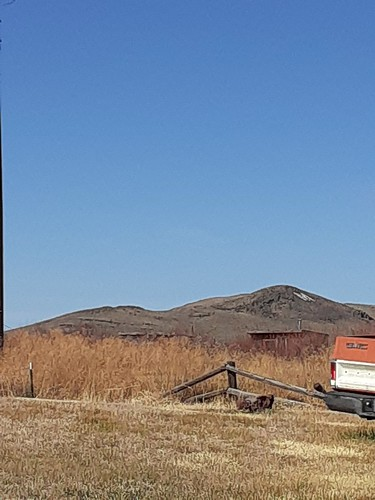grass: (1, 402, 375, 500)
mountain: (55, 261, 338, 321)
sky: (1, 1, 370, 287)
